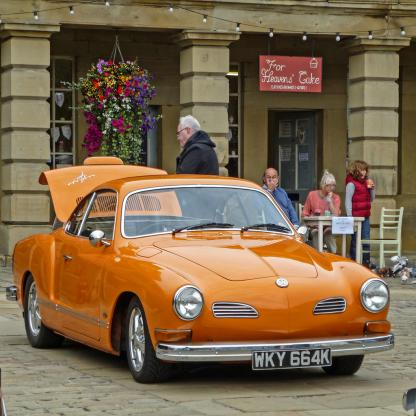Car: (6, 157, 394, 383)
